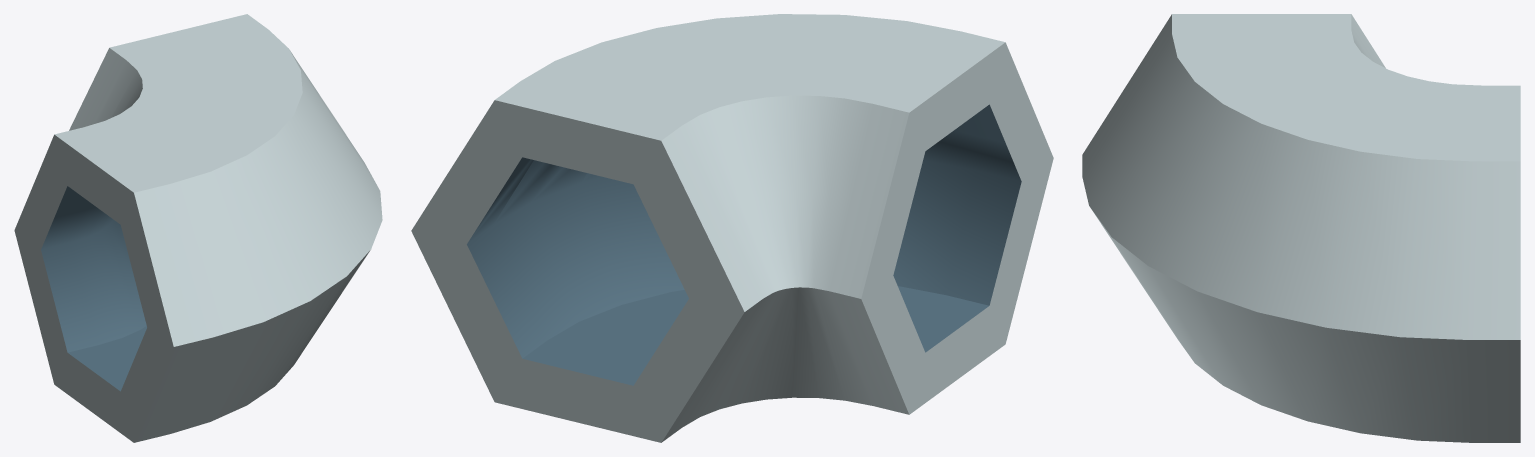
File: pipe_cornerRound.glb
3 views of the same model, side by side, from view 1: azimuth 30°, elevation 25°; view 2: azimuth 150°, elevation 25°; view 3: azimuth 270°, elevation 25° (orthographic). The views are drawn at different scales.
Parts seen in each view (by area): view 1: pipe_cornerRound; view 2: pipe_cornerRound; view 3: pipe_cornerRound.
Boxes of the visible parts, <box> form: pipe_cornerRound: <box>14,14,382,442</box>; pipe_cornerRound: <box>411,14,1053,442</box>; pipe_cornerRound: <box>1082,14,1520,442</box>.
Bounding box in the file's own units: 0.8464 × 0.6 × 0.8464.
